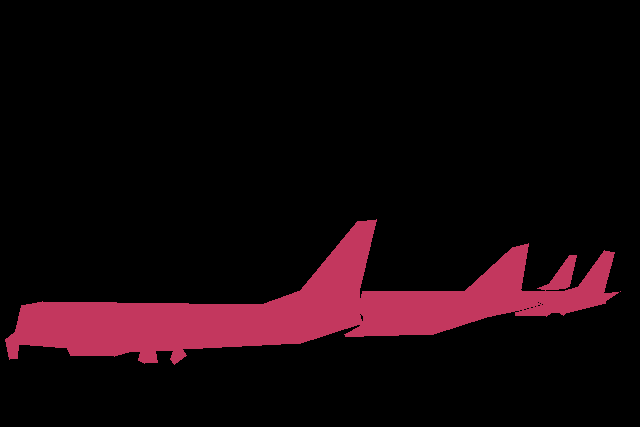Airplane: (5, 219, 377, 365), (344, 243, 541, 337), (515, 250, 621, 316), (537, 255, 576, 290)
